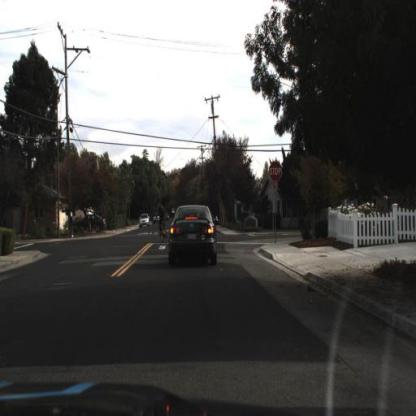biker: (154, 197, 171, 252), (156, 202, 169, 244)
car: (168, 205, 218, 265), (74, 214, 107, 232), (136, 208, 150, 229), (149, 209, 161, 227)
